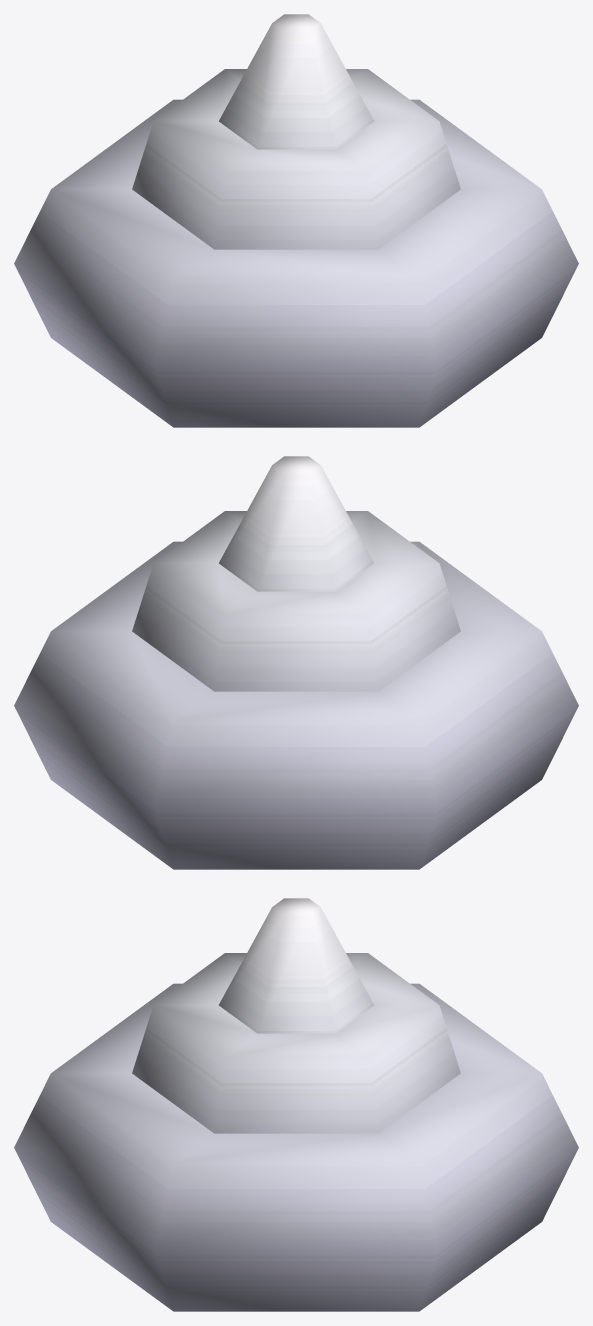
File: whipped-cream.glb
The picture shows the model from 3 angles, top to bottom: view 1: azimuth 30°, elevation 25°; view 2: azimuth 150°, elevation 25°; view 3: azimuth 270°, elevation 25°; orthographic projection.
Visible parts, largest first — view 1: whipped-cream; view 2: whipped-cream; view 3: whipped-cream.
Part boxes in pixels (box(x1,y1,x2,y2)): whipped-cream: box(14, 14, 578, 427); whipped-cream: box(14, 456, 578, 869); whipped-cream: box(14, 898, 578, 1311).
Size of the model in its own units: 0.1363 by 0.0967 by 0.1573.
1 material, 1 textured.
